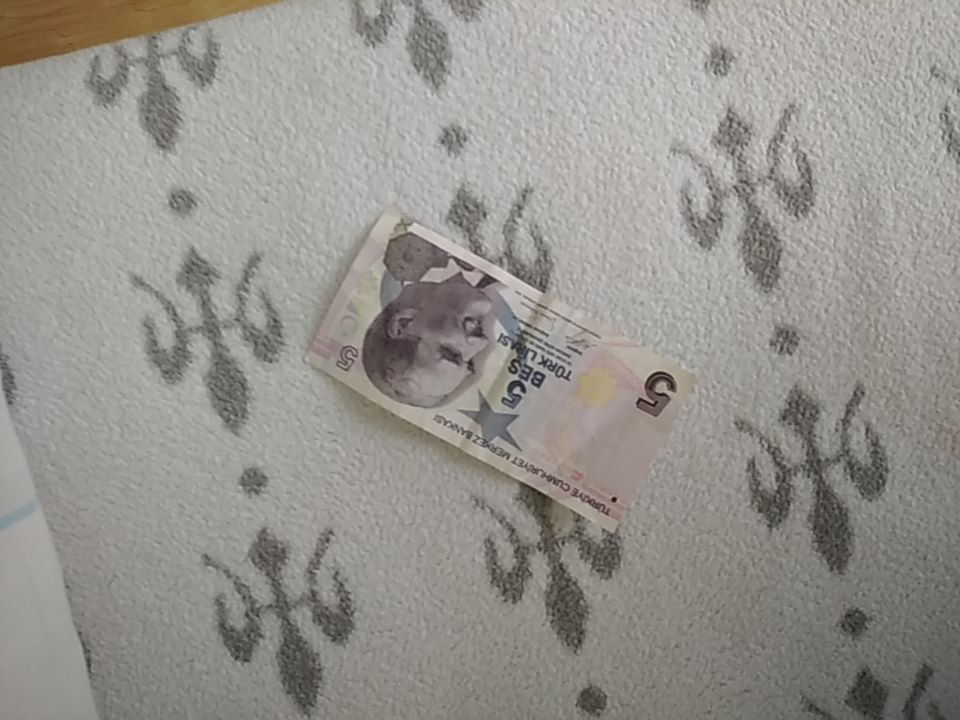5TL: (302, 201, 695, 537)
